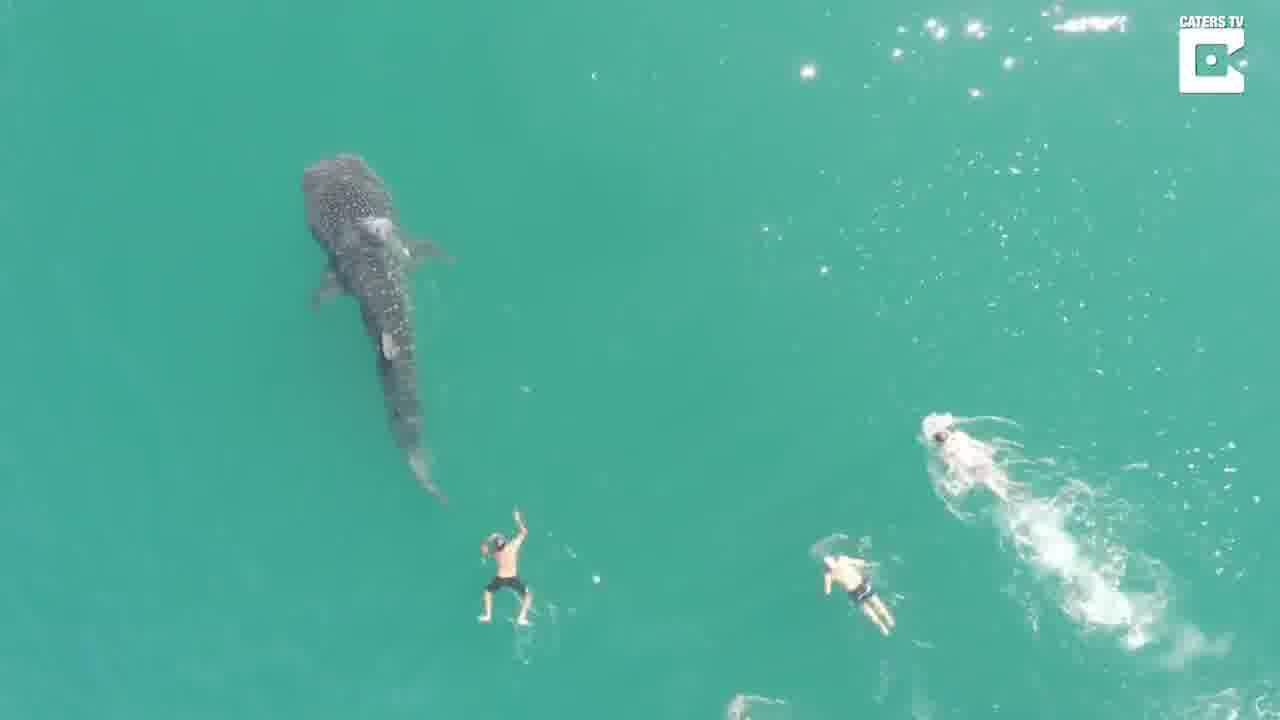swimmer: (462, 522, 557, 631), (816, 554, 908, 649)
